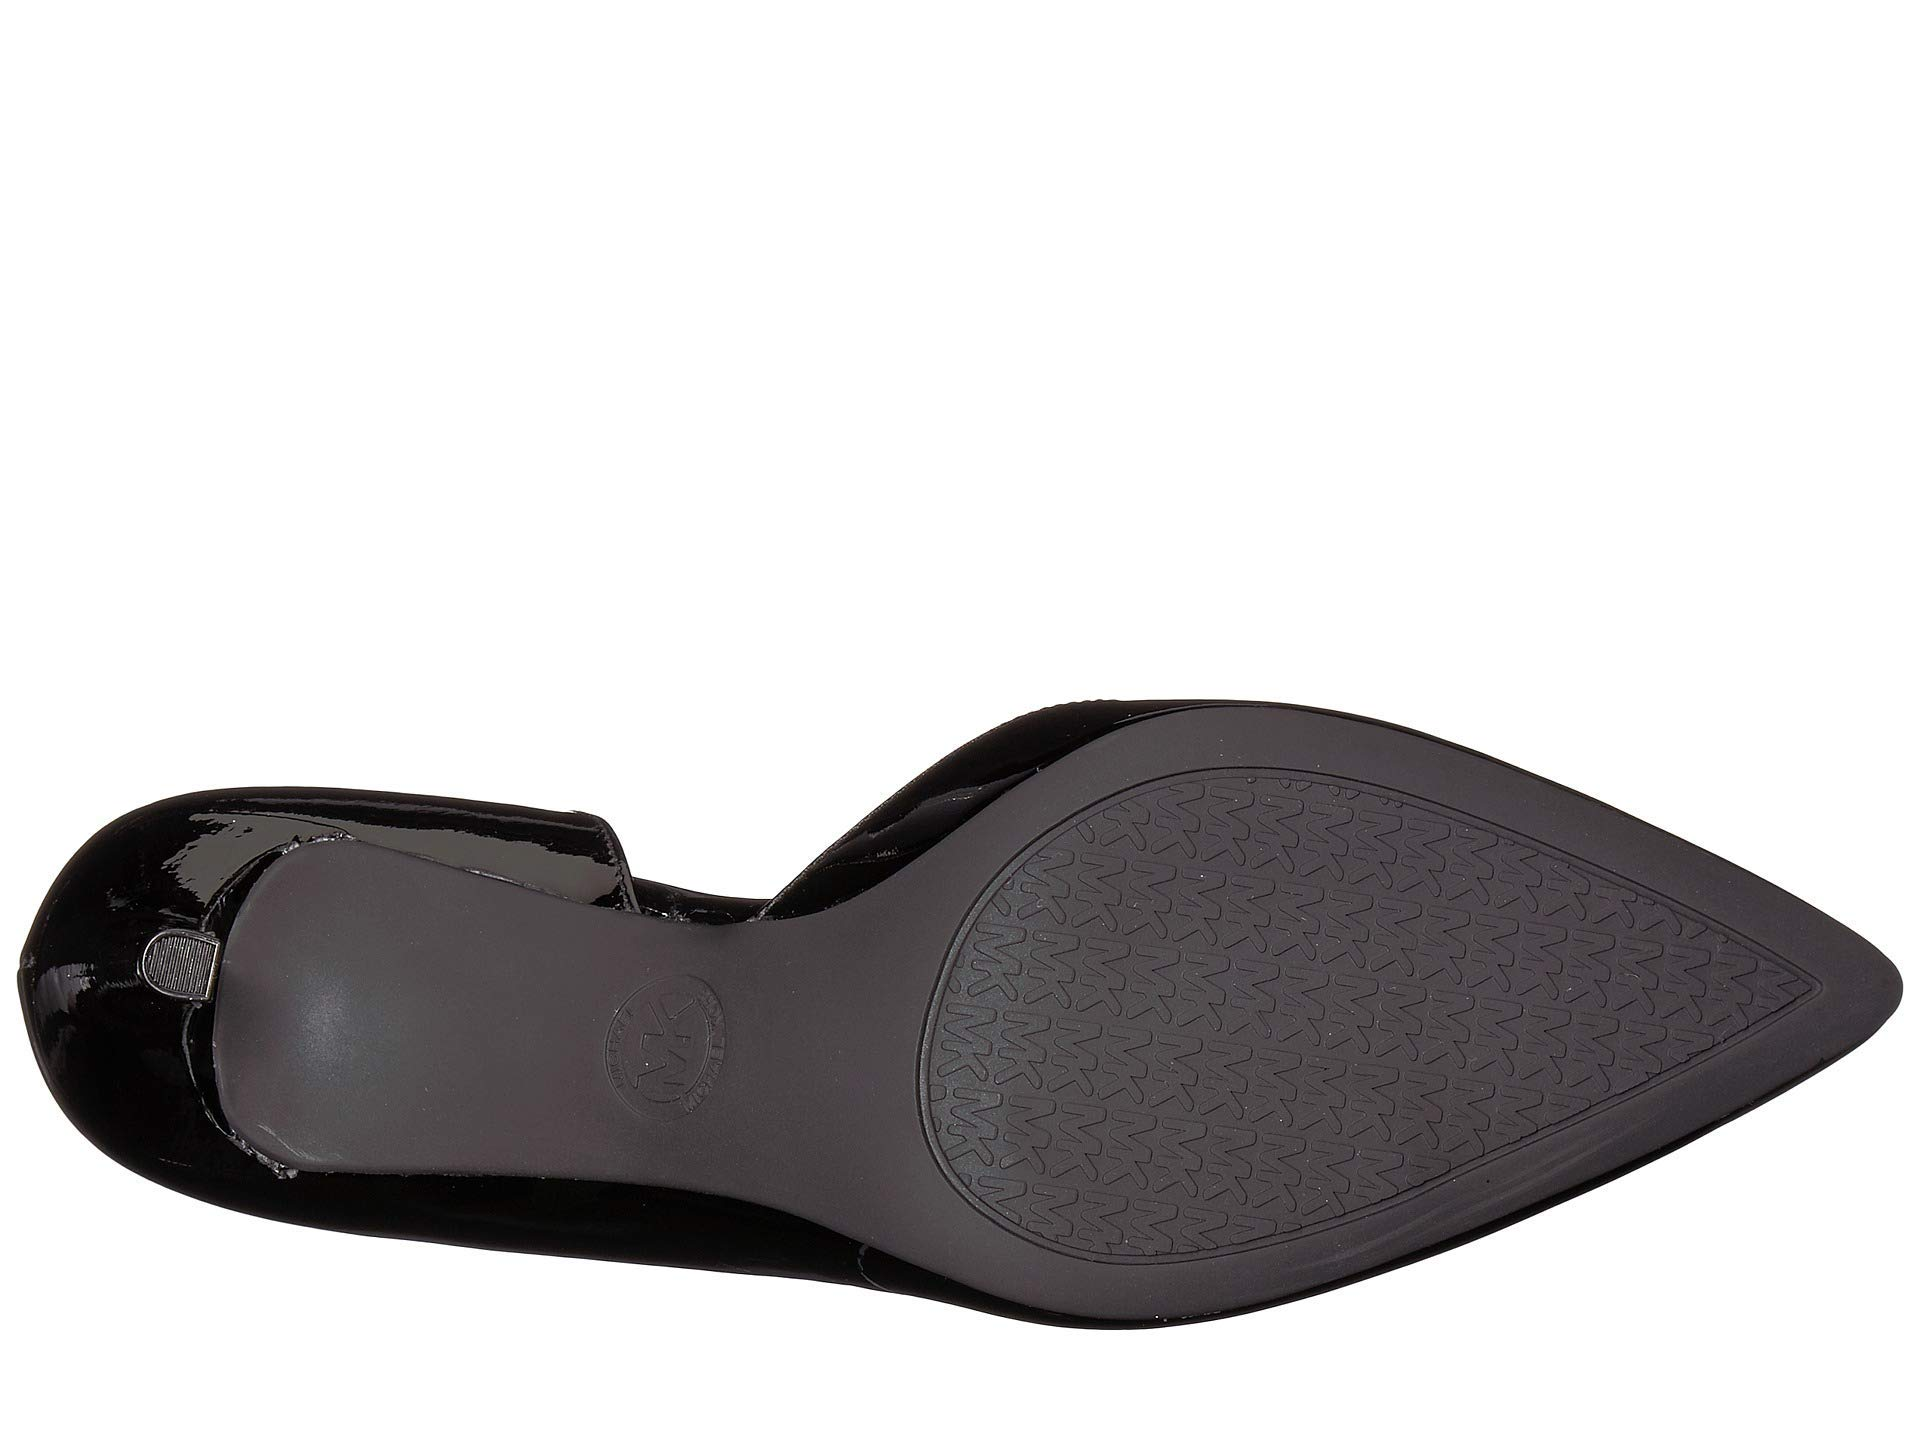text: (1067, 833, 1400, 1159), (1420, 891, 1640, 1113), (924, 985, 1058, 1130)
